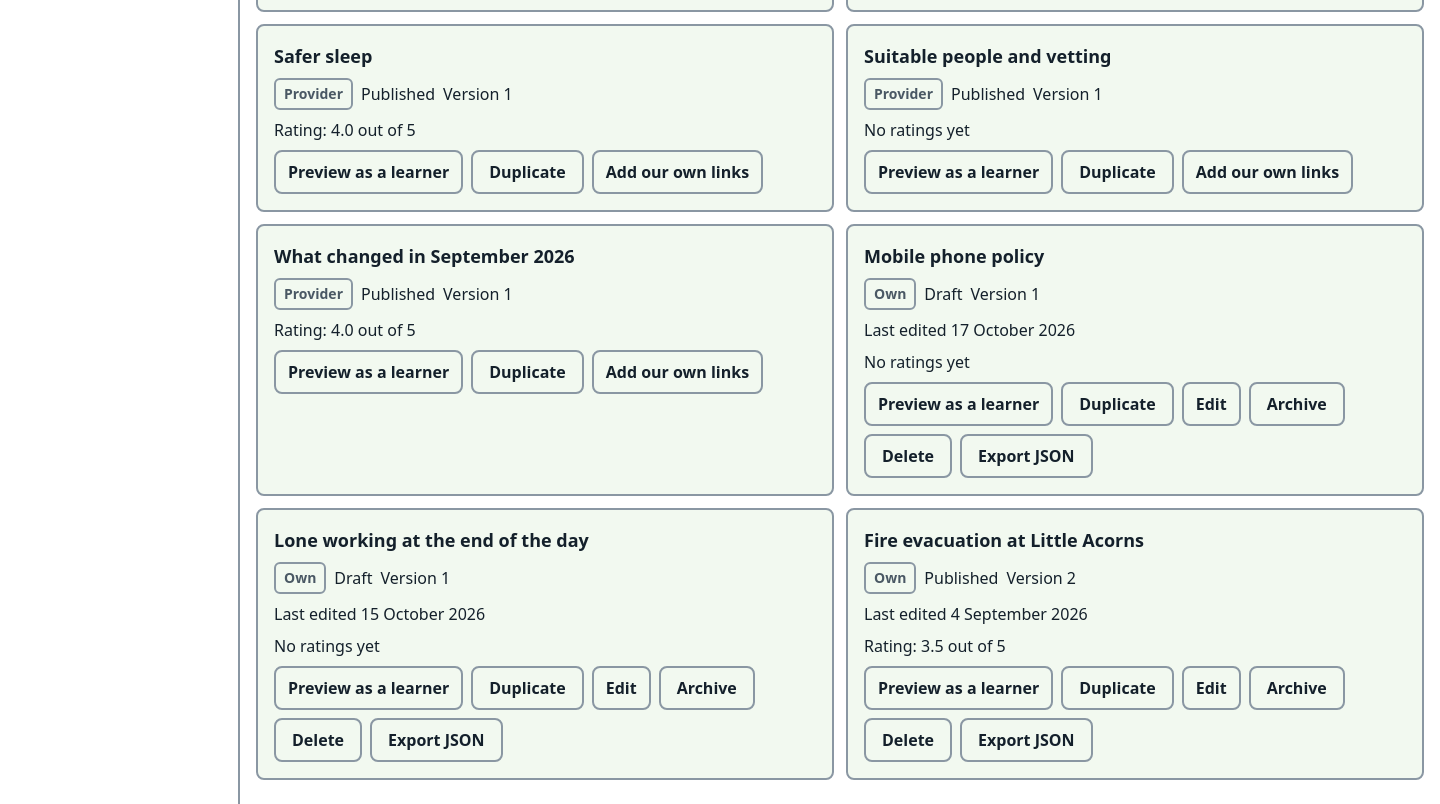
Test case: C6 Module Library › duplicates an own module too
(page scrolled)
Click the button "Duplicate" below "Rating: 3.5 out of 5": [1117, 688] box x1=1061 y1=666 x2=1174 y2=710
(page scrolled)
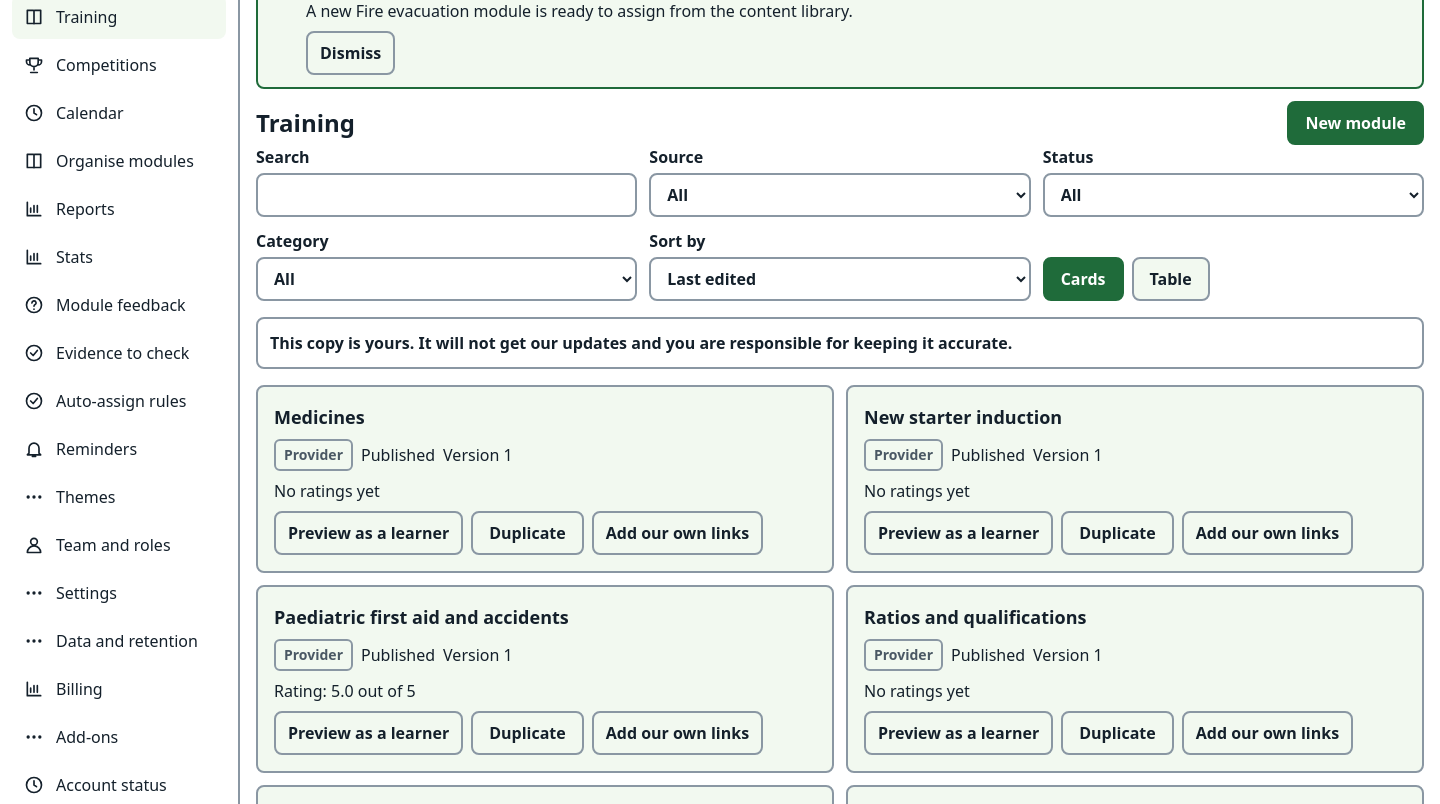
Now the message is shown, box x1=256 y1=317 x2=1424 y2=369
